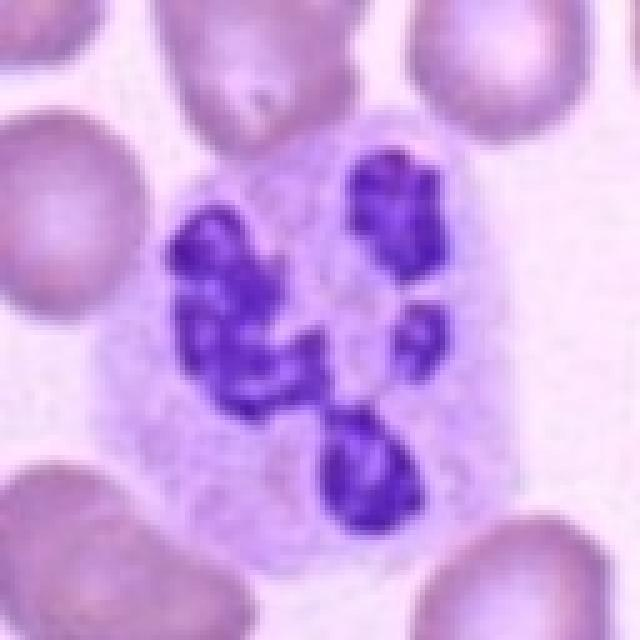neutro: (68, 62, 539, 520)
